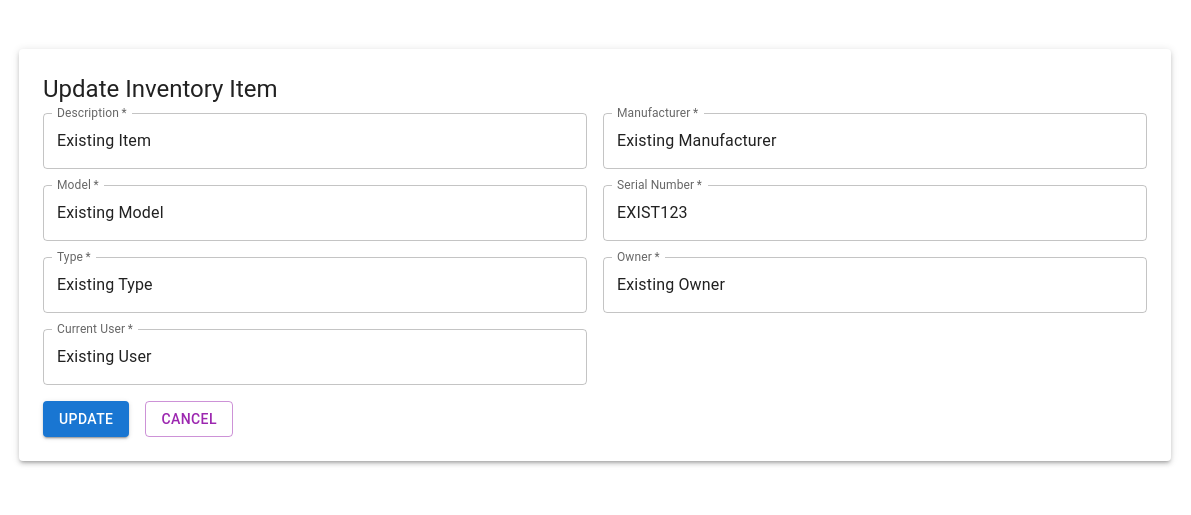
Test: AddInventory Component › handles update mode with duplicate serial number error
This screenshot has width=1191, height=515.
Submit the form
What coordinates should you click on to do the following:
click the button "Update"
I would click on:
 (86, 419)
Its box is left=43, top=401, right=129, bottom=438.
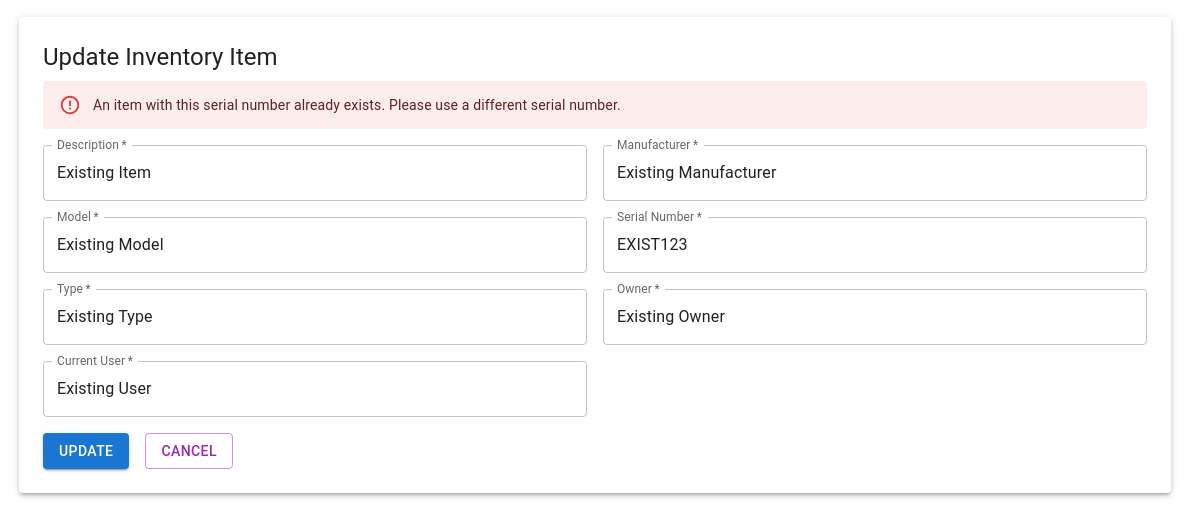
Expected: the text "serial number already exists" is shown, left=93, top=97, right=621, bottom=113
